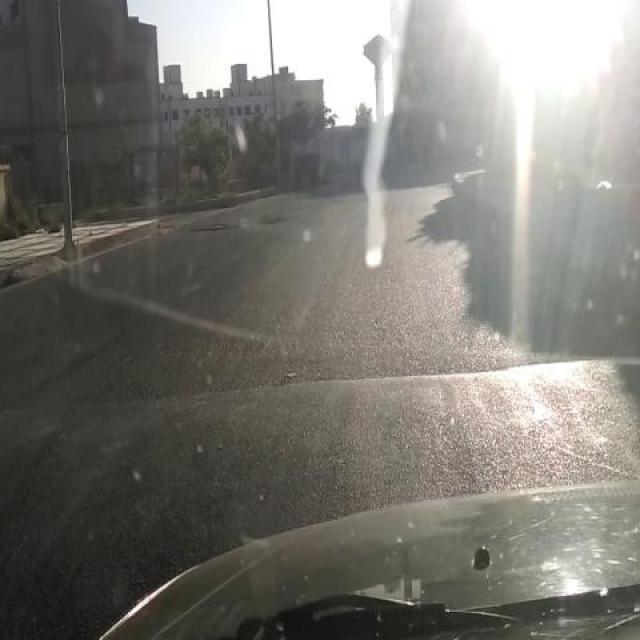Unmarked Bump: (0, 359, 640, 484), (1, 490, 102, 640)
